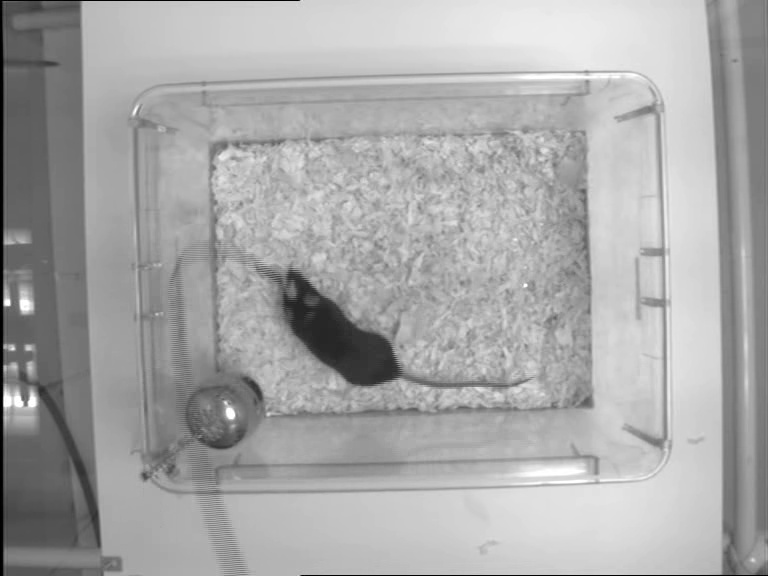mice: (281, 264, 536, 389)
